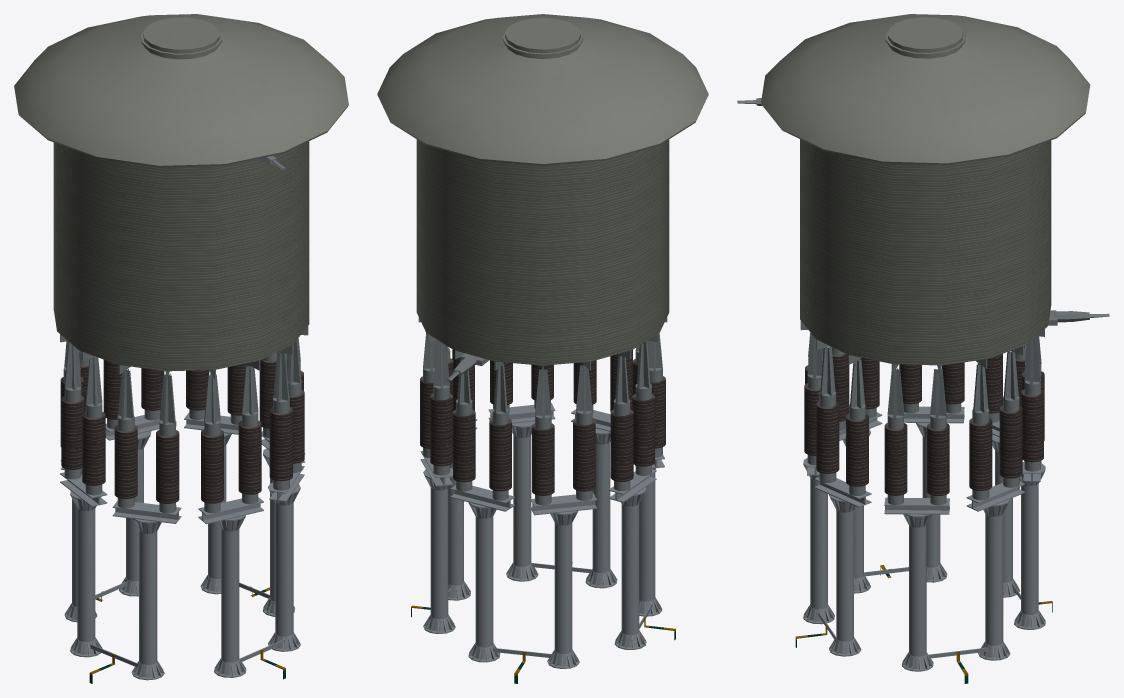
The model's file is DKQ_GLB.glb.
3 views of the same model, side by side, from view 1: azimuth 30°, elevation 25°; view 2: azimuth 150°, elevation 25°; view 3: azimuth 270°, elevation 25° (orthographic).
Visible parts, largest first — view 1: SM_DKQ_09M00800060005668_B_2; view 2: SM_DKQ_09M00800060005668_B_2; view 3: SM_DKQ_09M00800060005668_B_2.
Part boxes in pixels (x1,y1,x2,y2): SM_DKQ_09M00800060005668_B_2: [14, 14, 348, 683]; SM_DKQ_09M00800060005668_B_2: [377, 14, 708, 683]; SM_DKQ_09M00800060005668_B_2: [737, 14, 1109, 683].
Bounding box in the file's own units: 4.5 × 8.98 × 5.08.
Materials: 7 (7 with a texture image).
